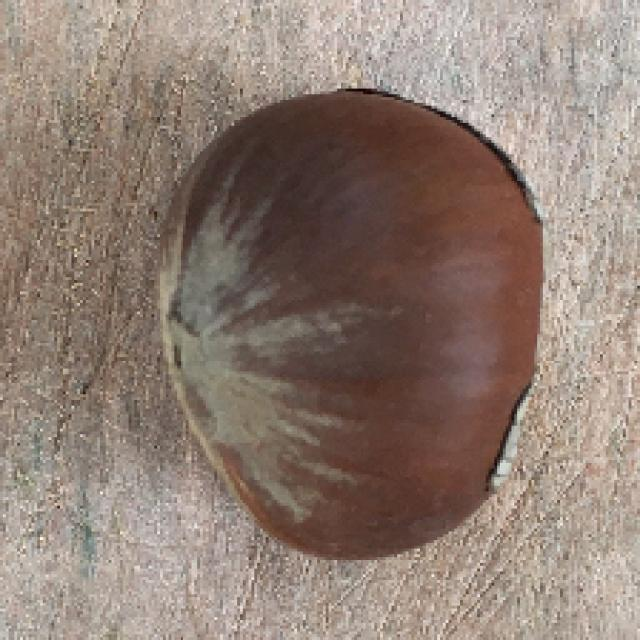damagedHazelnut: (140, 76, 552, 563)
